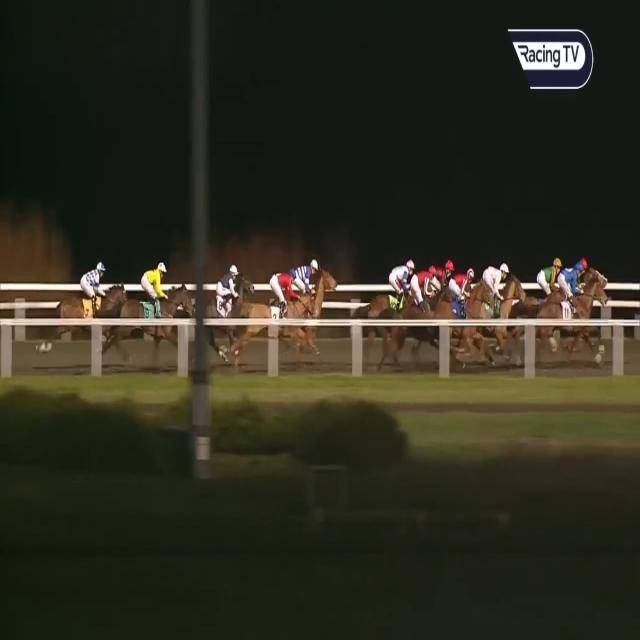horses-racing: (126, 252, 189, 375), (186, 262, 251, 356), (514, 251, 567, 364), (258, 264, 317, 365), (54, 254, 111, 348), (471, 257, 521, 363), (391, 262, 439, 372), (366, 255, 421, 345), (432, 259, 478, 360), (282, 257, 331, 326), (553, 262, 582, 341), (426, 252, 456, 312), (572, 254, 600, 314)
